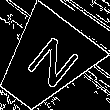N_SW: (12, 31, 77, 95)
